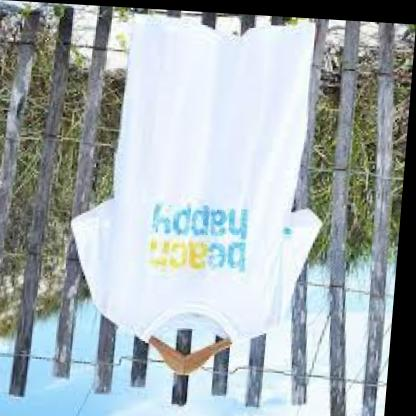Miscellaneous: (80, 5, 326, 383)
